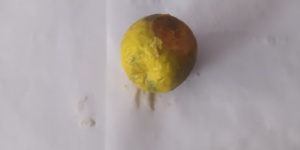BAD: (121, 5, 195, 94)
